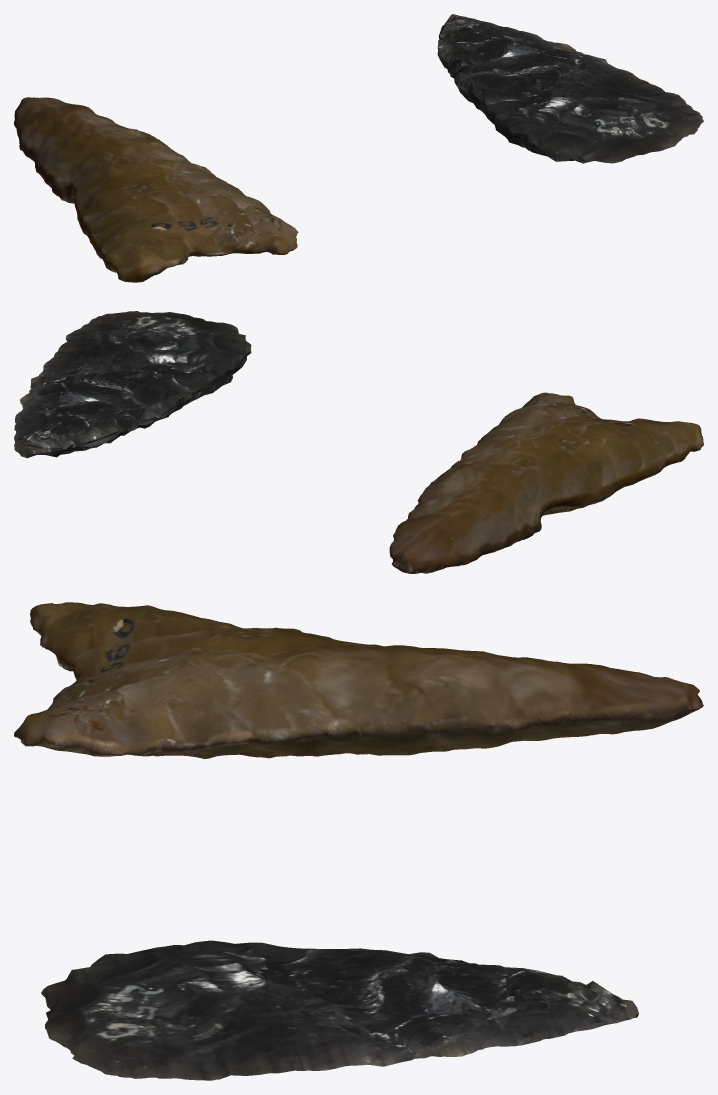
The model's file is PuntasFlecha.obj.
3 views of the same model, one above another, from view 1: azimuth 30°, elevation 25°; view 2: azimuth 150°, elevation 25°; view 3: azimuth 270°, elevation 25° (orthographic). The views are drawn at different scales.
Parts seen in each view (by area): view 1: TexturedMesh.002_TexturedMesh.003, TexturedMesh.001; view 2: TexturedMesh.002_TexturedMesh.003, TexturedMesh.001; view 3: TexturedMesh.002_TexturedMesh.003, TexturedMesh.001.
Part boxes in pixels (x1,y1,x2,y2): TexturedMesh.002_TexturedMesh.003: (14,97,298,282); TexturedMesh.001: (437,14,703,163); TexturedMesh.002_TexturedMesh.003: (389,392,703,573); TexturedMesh.001: (14,311,251,458); TexturedMesh.002_TexturedMesh.003: (14,602,703,758); TexturedMesh.001: (41,940,638,1080).
Bounding box in the file's own units: 1.47 × 0.1454 × 0.9214.
2 materials, 2 textured.
